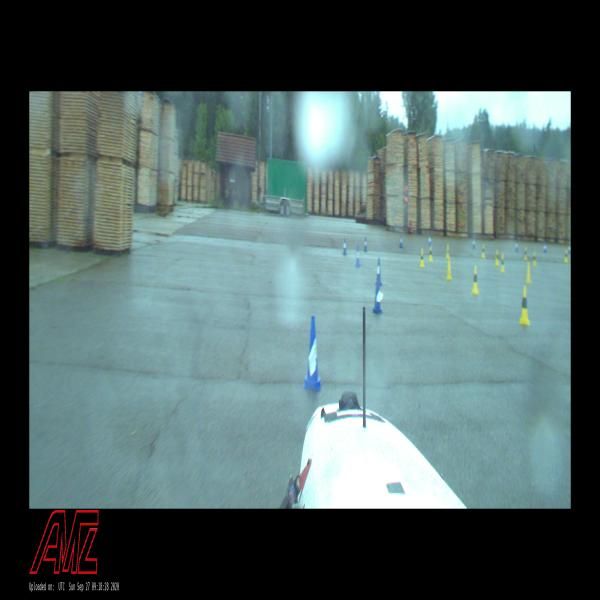blue_cone: (303, 317, 322, 389), (373, 283, 383, 313), (376, 258, 382, 285), (356, 246, 360, 267), (343, 240, 347, 255), (364, 238, 367, 252), (399, 235, 402, 248)
yellow_cone: (520, 287, 530, 325), (472, 267, 479, 293), (446, 258, 452, 279), (526, 262, 531, 282), (420, 249, 424, 266), (501, 255, 504, 272), (429, 246, 432, 261), (482, 245, 485, 257), (496, 249, 498, 265)
